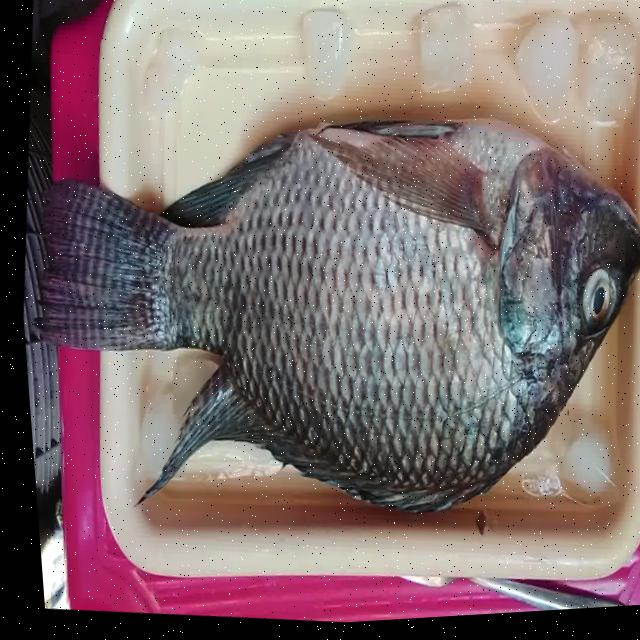Fresh: (5, 68, 579, 575), (558, 221, 632, 367)
